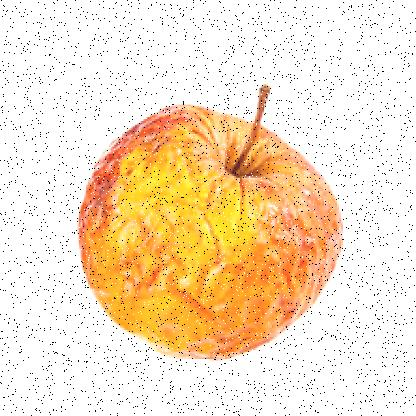damaged_apple: (71, 88, 345, 358)
